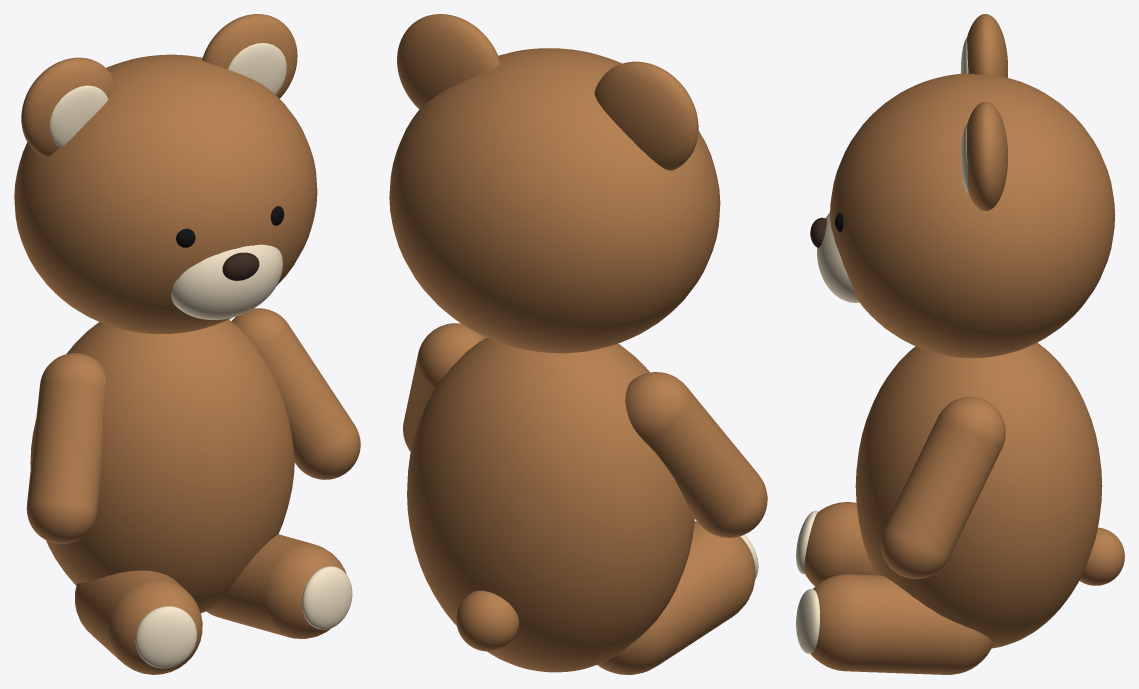
File: teddy-builder-v1.noroot.glb
3 renders of one model, left to right at view 1: azimuth 30°, elevation 25°; view 2: azimuth 150°, elevation 25°; view 3: azimuth 270°, elevation 25°, orthographic. The views are drawn at different scales.
Parts seen in each view (by area): view 1: head, body, arm_r, arm_l, leg_l, leg_r, muzzle, ear_r, ear_l, foot_pad_r, foot_pad_l, ear_r_inner (+2 smaller); view 2: head, body, arm_r, leg_r, ear_r, ear_l, arm_l, tail; view 3: head, body, leg_l, arm_l, leg_r, ear_l, ear_r, tail, muzzle, foot_pad_l, foot_pad_r.
Part boxes in pixels (left/top/right/bottom): head: left=14, top=54, right=317, bottom=334; body: left=30, top=319, right=294, bottom=613; arm_r: left=26, top=353, right=105, bottom=543; arm_l: left=231, top=308, right=360, bottom=479; leg_l: left=206, top=534, right=346, bottom=638; leg_r: left=75, top=570, right=202, bottom=674; muzzle: left=171, top=244, right=282, bottom=319; ear_r: left=21, top=57, right=116, bottom=157; ear_l: left=202, top=14, right=297, bottom=98; foot_pad_r: left=135, top=606, right=196, bottom=668; foot_pad_l: left=302, top=566, right=352, bottom=629; ear_r_inner: left=49, top=85, right=107, bottom=147; head: left=389, top=48, right=720, bottom=353; body: left=407, top=337, right=694, bottom=672; arm_r: left=625, top=372, right=767, bottom=537; leg_r: left=597, top=521, right=755, bottom=674; ear_r: left=594, top=61, right=698, bottom=170; ear_l: left=397, top=14, right=500, bottom=109; arm_l: left=403, top=323, right=485, bottom=451; tail: left=456, top=590, right=519, bottom=651; head: left=830, top=73, right=1114, bottom=358; body: left=855, top=342, right=1102, bottom=648; leg_l: left=810, top=574, right=993, bottom=674; arm_l: left=881, top=397, right=1005, bottom=578; leg_r: left=804, top=502, right=875, bottom=586; ear_l: left=967, top=101, right=1007, bottom=210; ear_r: left=967, top=14, right=1007, bottom=77; tail: left=1079, top=527, right=1124, bottom=585; muzzle: left=817, top=212, right=859, bottom=302; foot_pad_l: left=796, top=589, right=819, bottom=653; foot_pad_r: left=796, top=510, right=818, bottom=574.
Bounding box in the file's own units: 0.1476 × 0.2509 × 0.1288.
